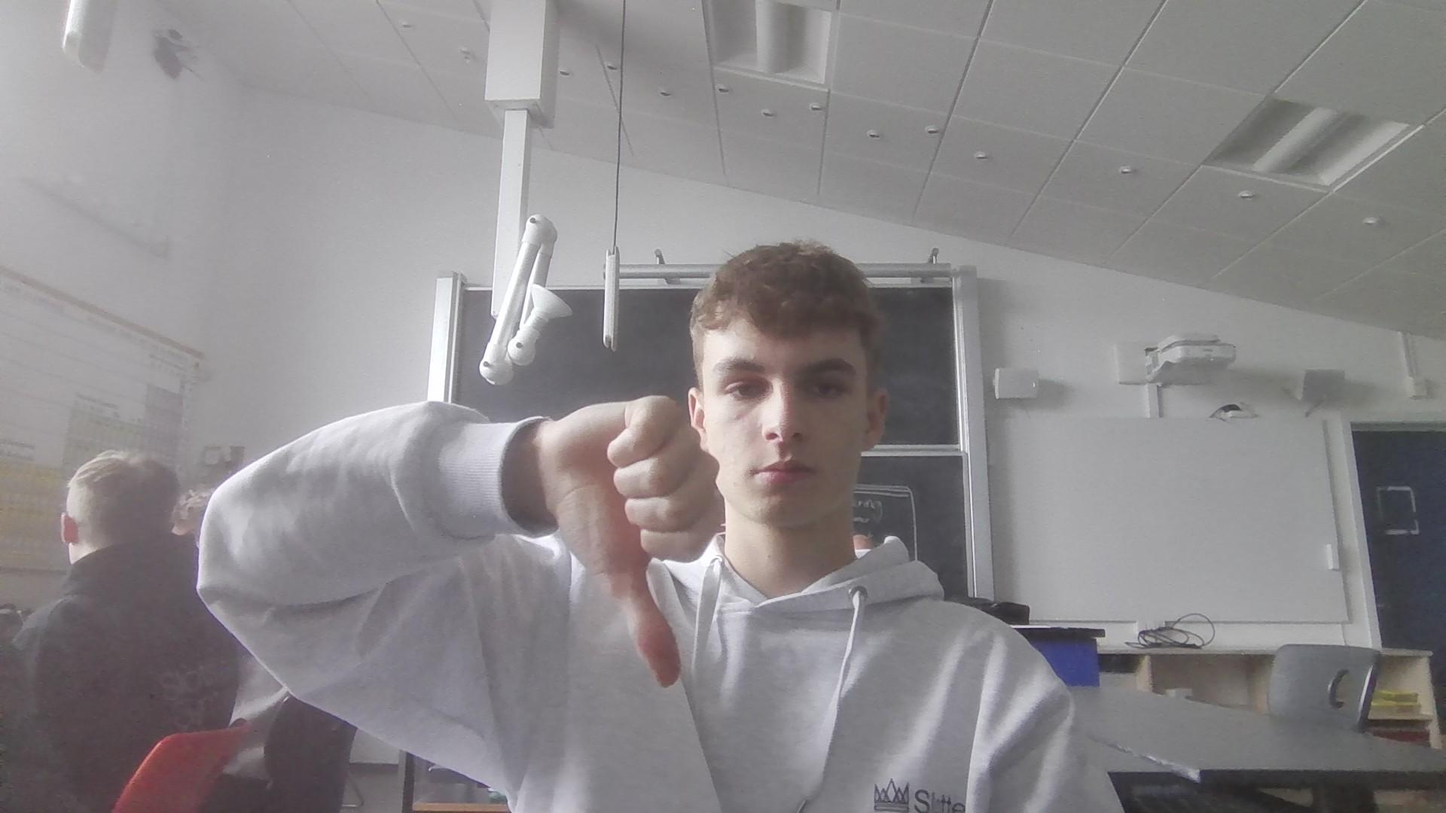thumbs down: (561, 385, 719, 687)
